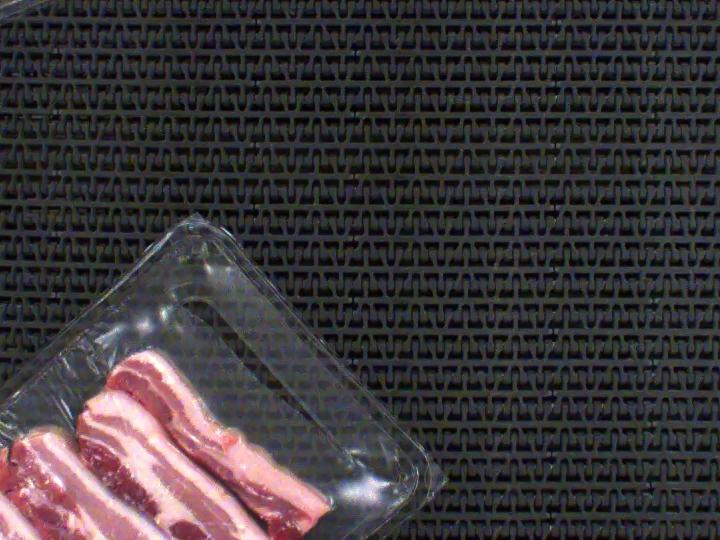unsealed: (0, 298, 396, 540)
